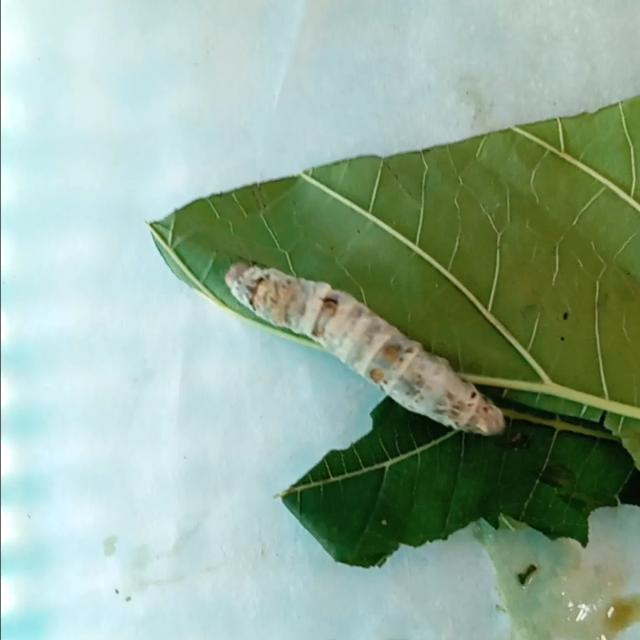Grasserie: (218, 246, 517, 446)
